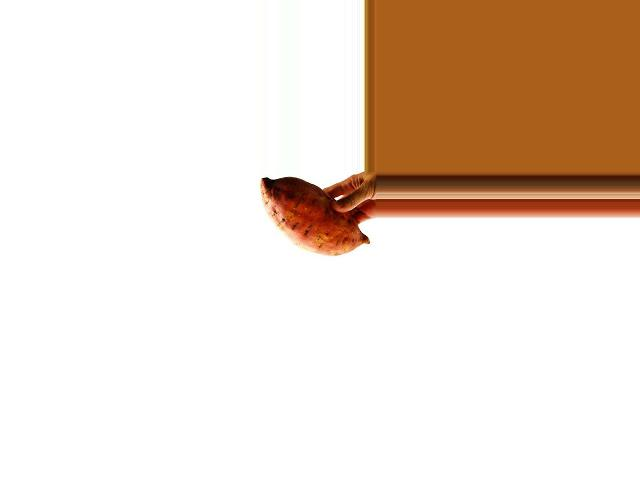sweet_potato: (257, 173, 365, 262)
